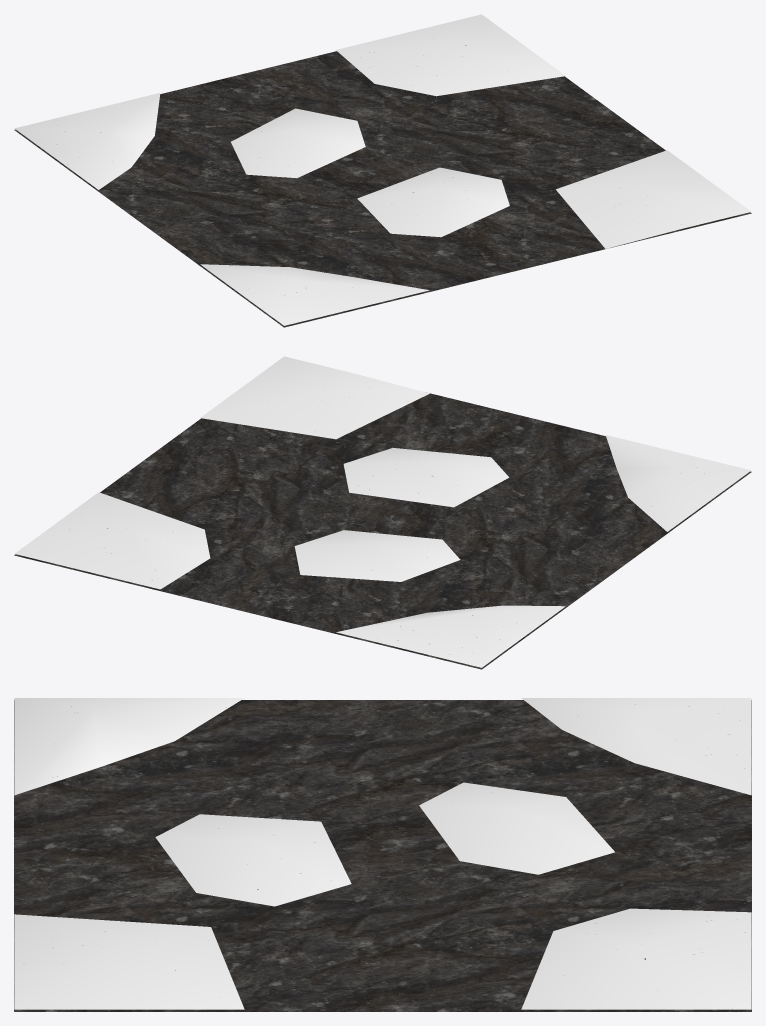
The model's file is Garden_04_Art.glb.
The picture shows the model from 3 angles, top to bottom: view 1: azimuth 30°, elevation 25°; view 2: azimuth 150°, elevation 25°; view 3: azimuth 270°, elevation 25°; orthographic projection. The views are drawn at different scales.
Visible parts, largest first — view 1: Garden_04_Art; view 2: Garden_04_Art; view 3: Garden_04_Art.
Part boxes in pixels (x1,y1,x2,y2): Garden_04_Art: (14,14,751,327); Garden_04_Art: (14,356,751,669); Garden_04_Art: (14,698,751,1011).
Size of the model in its own units: 15.98 by 0.5007 by 15.98.
2 materials, 2 textured.
